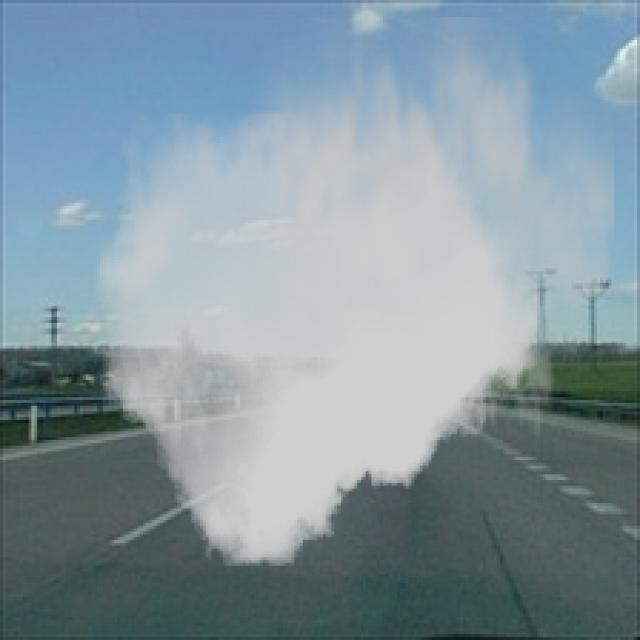smoke: (95, 17, 614, 566)
